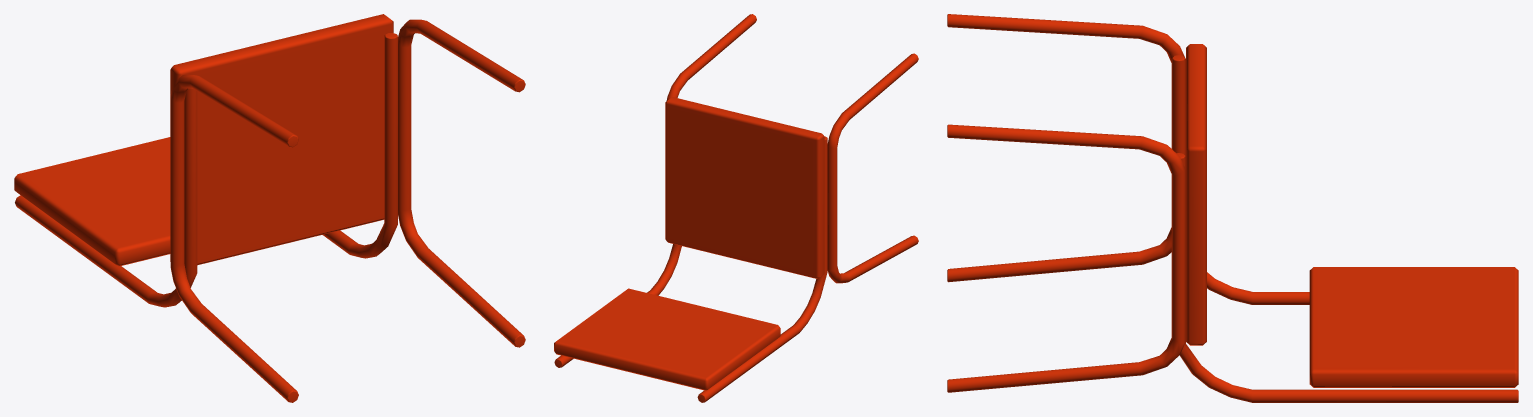
The model's file is SM_Chair_01.fbx.
3 views of the same model, side by side, from view 1: azimuth 30°, elevation 25°; view 2: azimuth 150°, elevation 25°; view 3: azimuth 270°, elevation 25° (orthographic). The views are drawn at different scales.
Visible parts, largest first — view 1: SM_Chair_01; view 2: SM_Chair_01; view 3: SM_Chair_01.
Part boxes in pixels (x1,y1,x2,y2): SM_Chair_01: (14,14,525,402); SM_Chair_01: (554,14,918,402); SM_Chair_01: (947,14,1518,402).
Bounding box in the file's own units: 65.98 × 74.85 × 136.
